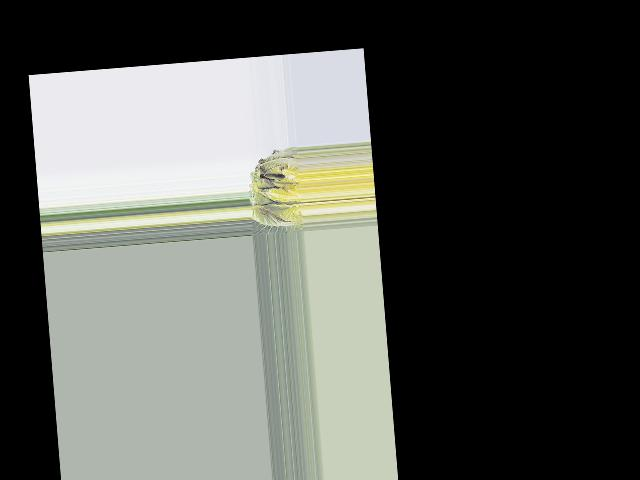lettuce: (247, 149, 304, 235)
